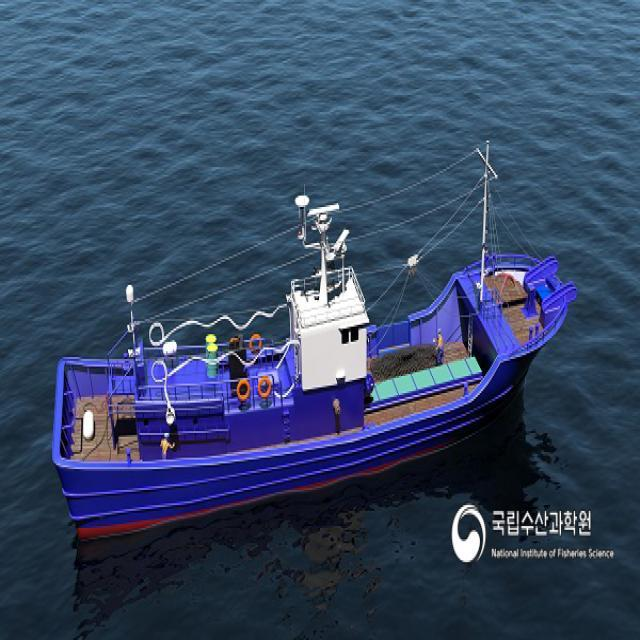Ship: (42, 132, 582, 552)
